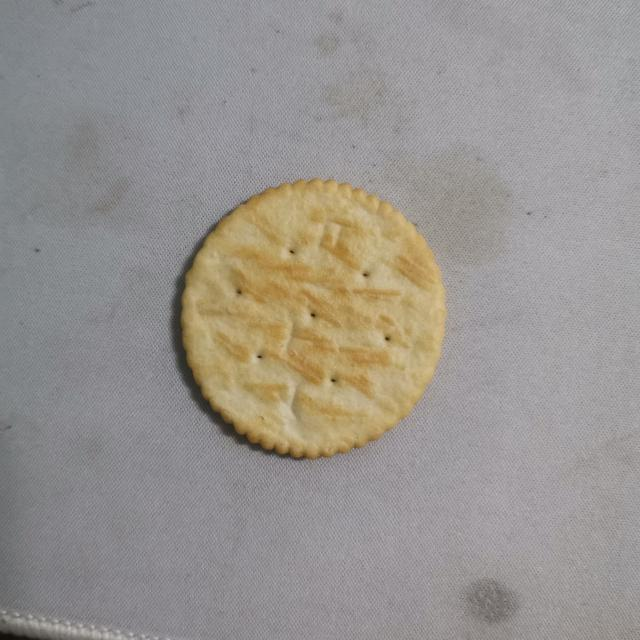Intact: (173, 174, 451, 462)
